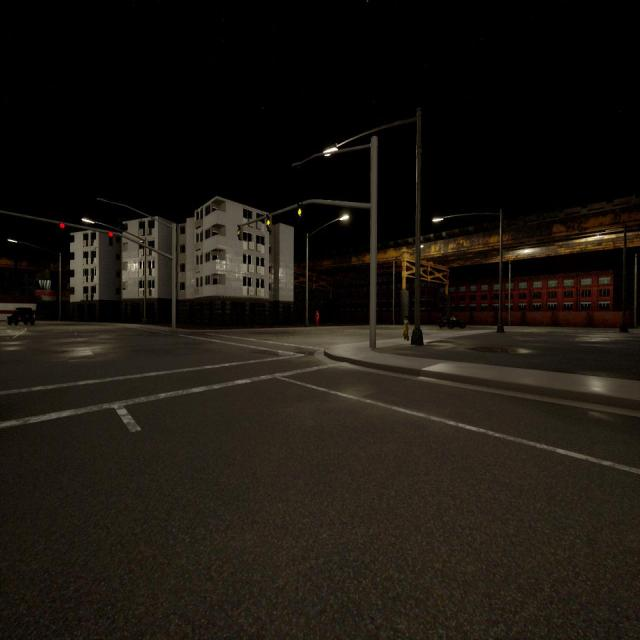Pedestrian: (404, 317, 408, 340), (316, 310, 320, 327)
Vehicle: (7, 307, 34, 325), (439, 317, 465, 328)
traffic_light: (266, 213, 272, 231), (237, 225, 243, 240), (298, 202, 302, 218), (109, 232, 113, 246), (60, 223, 64, 234)
